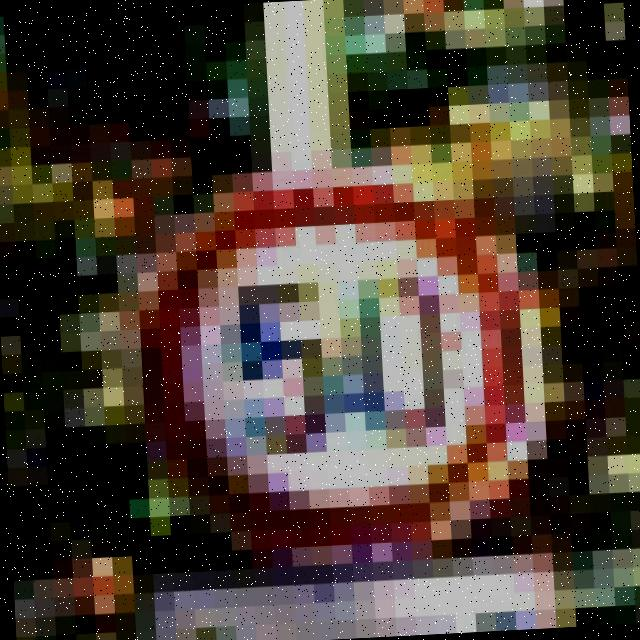Ograniczenie predkosci do 50: (136, 173, 525, 559)
